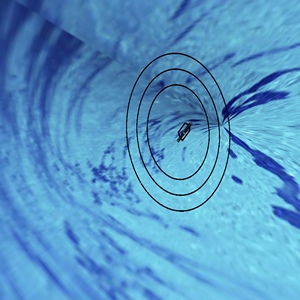circle: (106, 33, 240, 220)
submarine: (170, 114, 197, 151)
